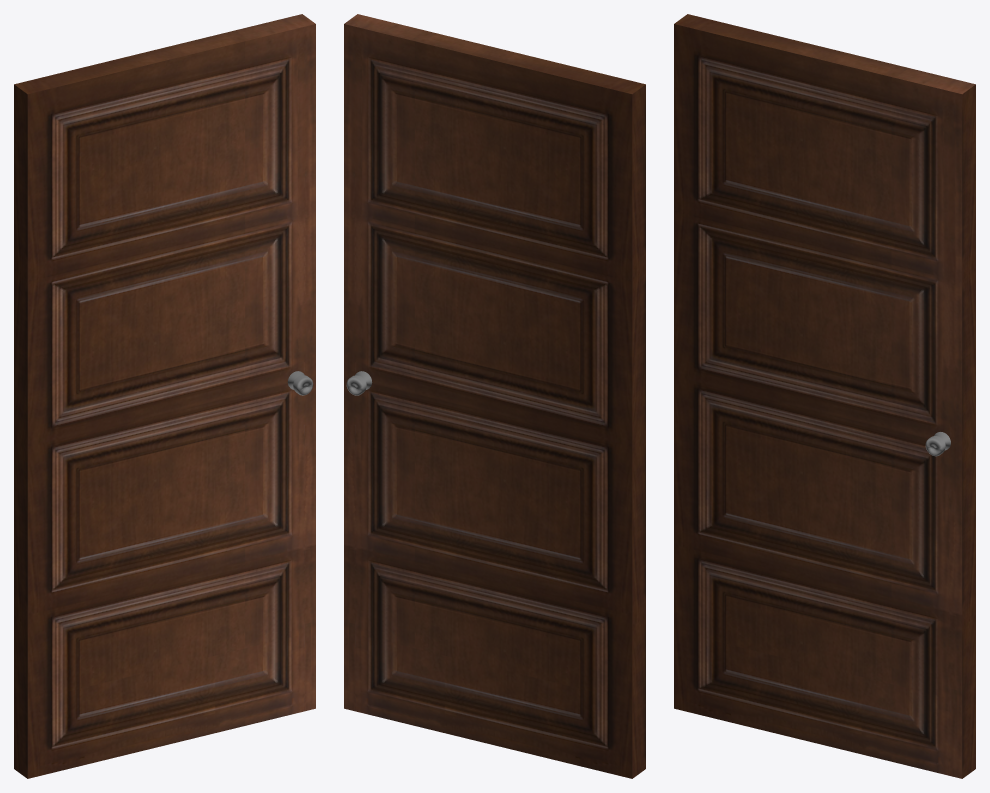
The model's file is RoomDoor.fbx.
The picture shows the model from 3 angles, left to right: view 1: azimuth 30°, elevation 25°; view 2: azimuth 150°, elevation 25°; view 3: azimuth 330°, elevation 25°; orthographic projection.
Parts seen in each view (by area): view 1: Cube; view 2: Cube; view 3: Cube.
Part boxes in pixels (x1=…): Cube: x1=14, y1=14, x2=315, y2=778; Cube: x1=344, y1=14, x2=645, y2=778; Cube: x1=674, y1=14, x2=975, y2=778.
Bounding box in the file's own units: 85.6 × 194 × 17.17.
